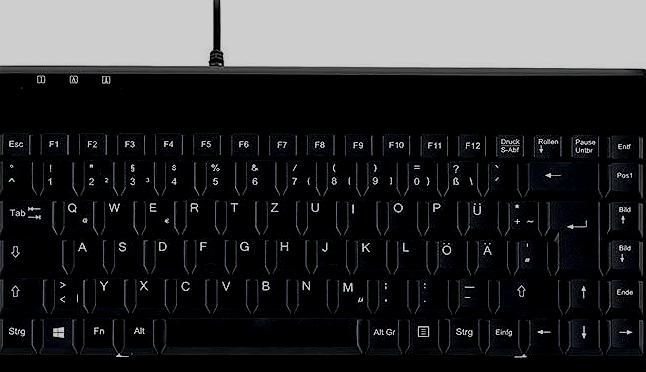0: (404, 158, 435, 193)
1: (40, 158, 71, 194)
2: (80, 157, 113, 194)
3: (120, 157, 153, 193)
4: (161, 157, 192, 193)
5: (202, 157, 234, 192)
6: (242, 157, 274, 193)
7: (282, 157, 315, 195)
8: (322, 157, 356, 195)
9: (363, 158, 396, 194)
a: (70, 235, 102, 273)
accent: (485, 158, 515, 190)
ae: (474, 236, 505, 271)
alt-left: (122, 314, 154, 348)
altgr-right: (365, 314, 400, 352)
b: (253, 275, 286, 307)
c: (172, 275, 205, 309)
caret: (1, 157, 30, 190)
comma: (375, 275, 405, 311)
d: (150, 235, 183, 273)
del: (524, 158, 598, 190)
e: (141, 195, 174, 232)
enter: (545, 195, 599, 274)
f: (191, 235, 223, 270)
g: (232, 236, 263, 270)
h: (272, 236, 305, 273)
hash: (514, 236, 545, 271)
i: (343, 196, 375, 230)
j: (313, 236, 344, 270)
k: (352, 236, 385, 273)
keyboard: (1, 122, 646, 370)
l: (395, 237, 424, 268)
less: (50, 274, 83, 311)
m: (333, 275, 367, 314)
minus: (454, 274, 487, 312)
n: (294, 275, 326, 308)
o: (382, 197, 416, 232)
oe: (433, 237, 465, 273)
p: (424, 196, 456, 230)
plus: (506, 197, 536, 232)
point: (415, 275, 446, 307)
q: (59, 197, 94, 233)
r: (181, 196, 214, 230)
s: (109, 235, 143, 272)
shift-left: (1, 275, 41, 311)
shift-lock: (1, 235, 62, 273)
shift-right: (495, 275, 558, 309)
space: (162, 314, 361, 350)
ss: (443, 158, 477, 194)
strg-left: (1, 314, 33, 353)
strg-right: (446, 314, 481, 353)
t: (222, 196, 255, 232)
tab: (1, 195, 52, 232)
u: (302, 196, 334, 233)
ue: (464, 196, 496, 233)
v: (214, 275, 244, 307)
w: (100, 196, 132, 231)
x: (133, 275, 163, 306)
y: (93, 275, 123, 307)
z: (262, 196, 295, 233)
